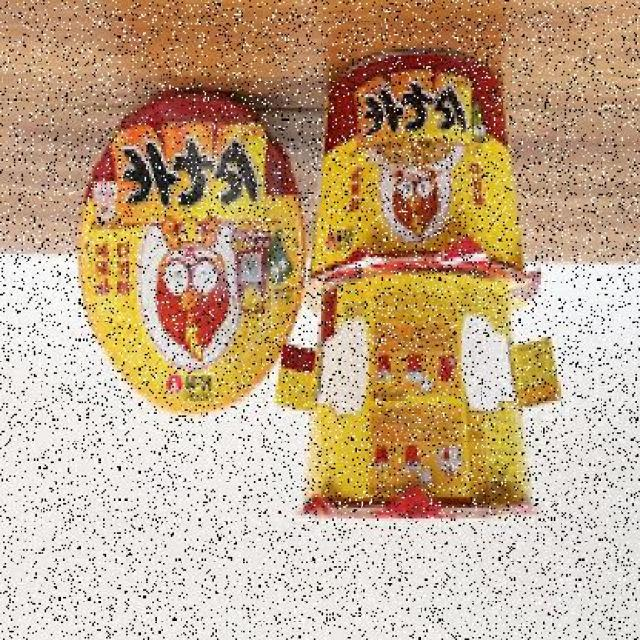Miscellaneous: (83, 96, 308, 421), (298, 50, 546, 319), (300, 274, 540, 528)
